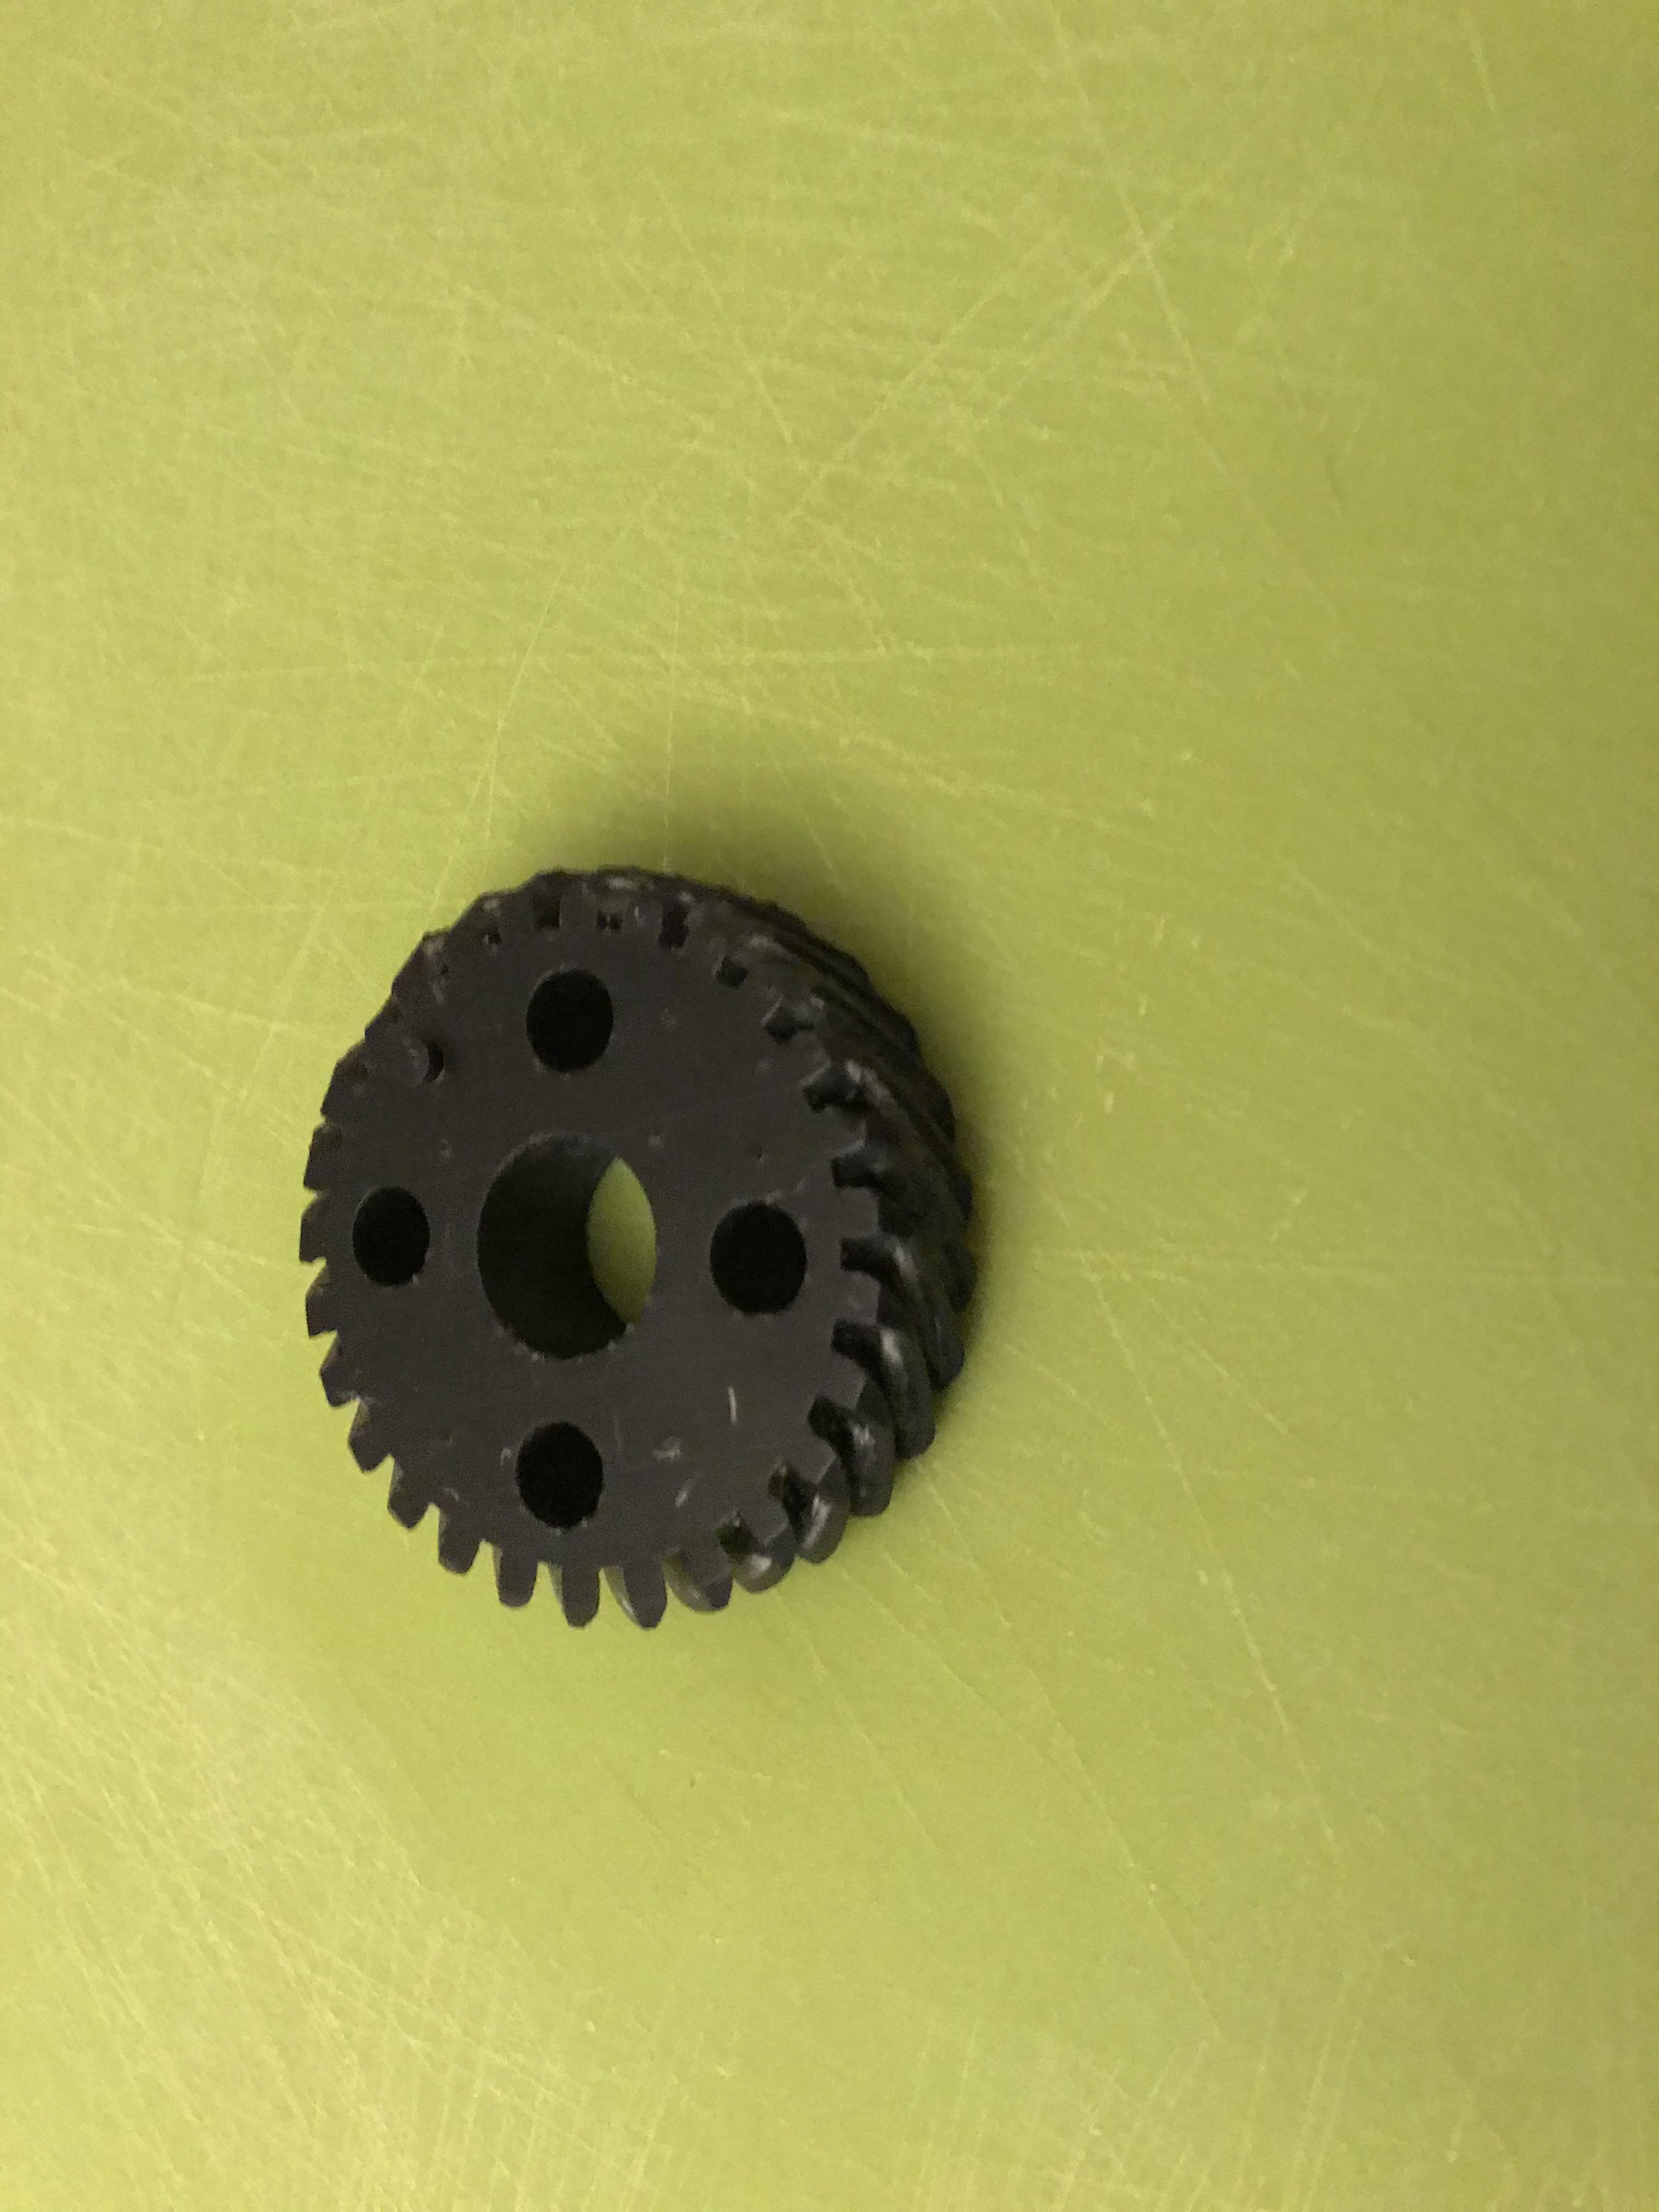Wheel: (282, 881, 1011, 1642)
